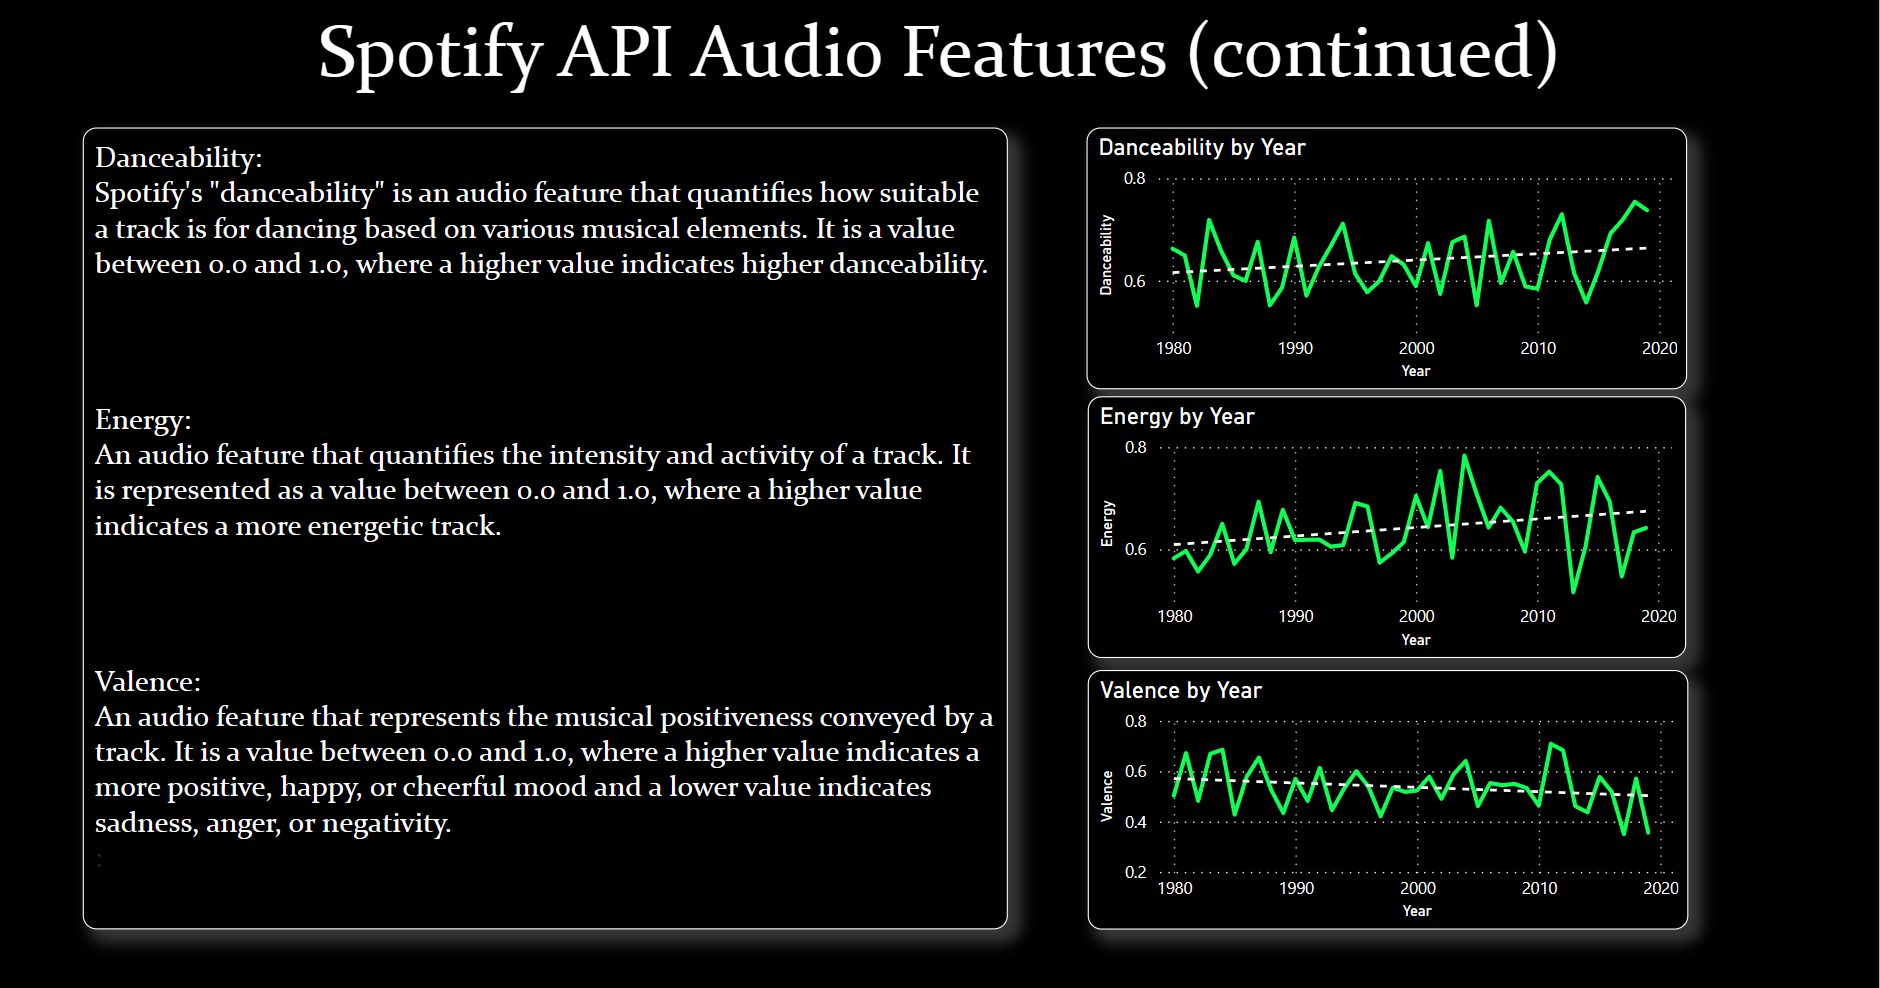

The dashboard page shown, as its layout file describes it:
{"tool":"powerbi","page":{"name":"API continued","canvas":[1280,720],"ordinal":2},"visuals":[{"type":"textbox","box":[22,49.4,672.4,627.1],"z":2001},{"type":"lineChart","fields":{"Category":["full_merge_cleaned.release_year"],"Y":["Avg(full_merge_cleaned.danceability)"]},"box":[746.5,49.4,437.7,190.7],"z":2002},{"type":"lineChart","fields":{"Category":["full_merge_cleaned.release_year"],"Y":["Avg(full_merge_cleaned.energy)"]},"box":[747.9,269,436.4,190.7],"z":2003},{"type":"lineChart","fields":{"Category":["full_merge_cleaned.release_year"],"Y":["Avg(full_merge_cleaned.valence)"]},"box":[746.5,487.1,436.4,189.4],"z":2004}]}

Visuals, with their boxes on the page's 1280x720 design canvas (x1, y1, x2, y2). These are canvas units, not pixel positions in the 1880x988 screenshot, which may show the page scaled, cropped or inside an application window:
textbox: l=22, t=49, r=694, b=676
lineChart - full_merge_cleaned.release_year x Avg(full_merge_cleaned.danceability): l=746, t=49, r=1184, b=240
lineChart - full_merge_cleaned.release_year x Avg(full_merge_cleaned.energy): l=748, t=269, r=1184, b=460
lineChart - full_merge_cleaned.release_year x Avg(full_merge_cleaned.valence): l=746, t=487, r=1183, b=676
